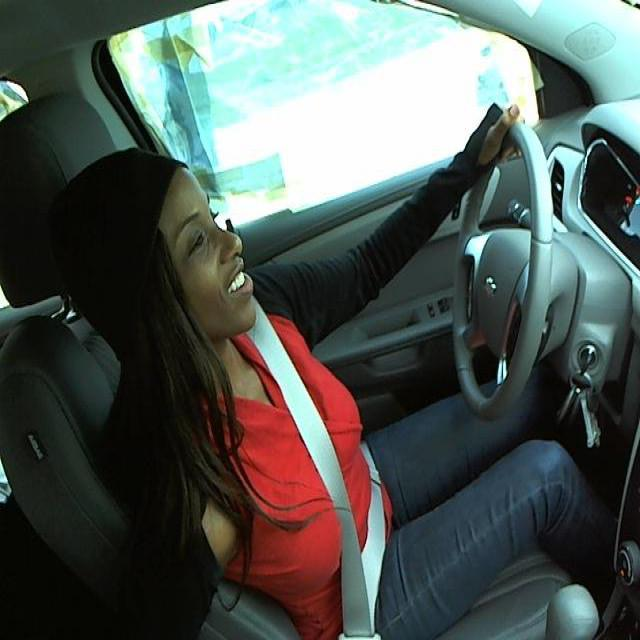seatbelt: (259, 339, 390, 620)
